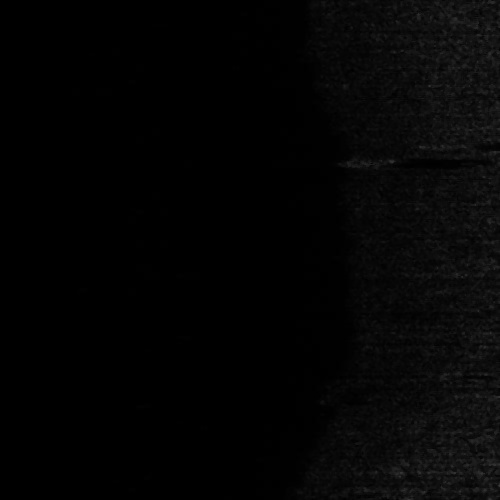object: (415, 141, 478, 148)
shadow: (446, 141, 500, 148)
